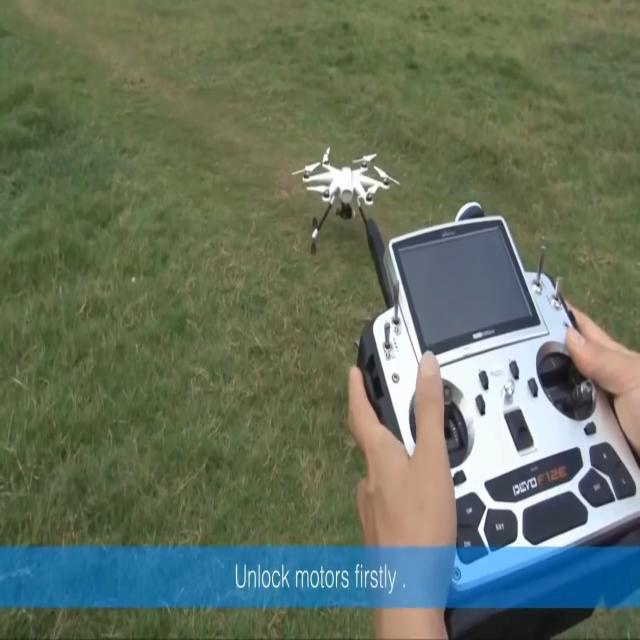drone: (291, 145, 401, 256)
